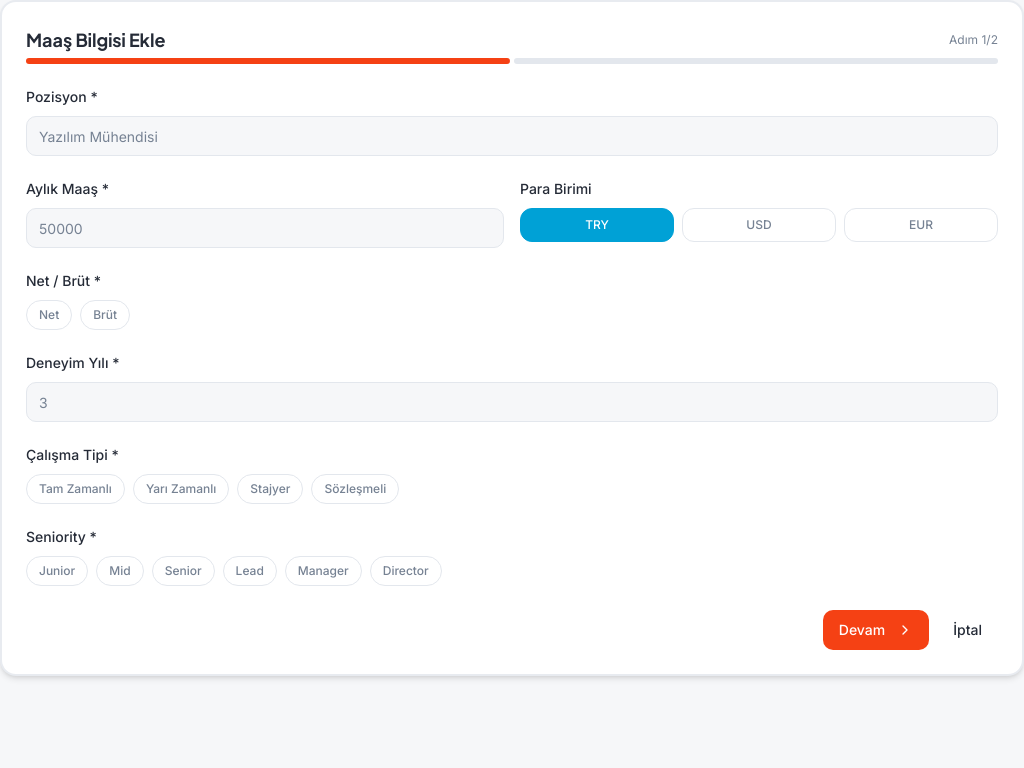
Test: SalaryForm › advances to step 2 when all required fields filled
The image size is (1024, 768).
Type "Frontend Dev" into the field with placeholder "Yazılım Mühendisi" at (512, 136), box [26,116,998,156]
Type "60000" into the number field with placeholder "50000" at (265, 228), box [26,208,504,248]
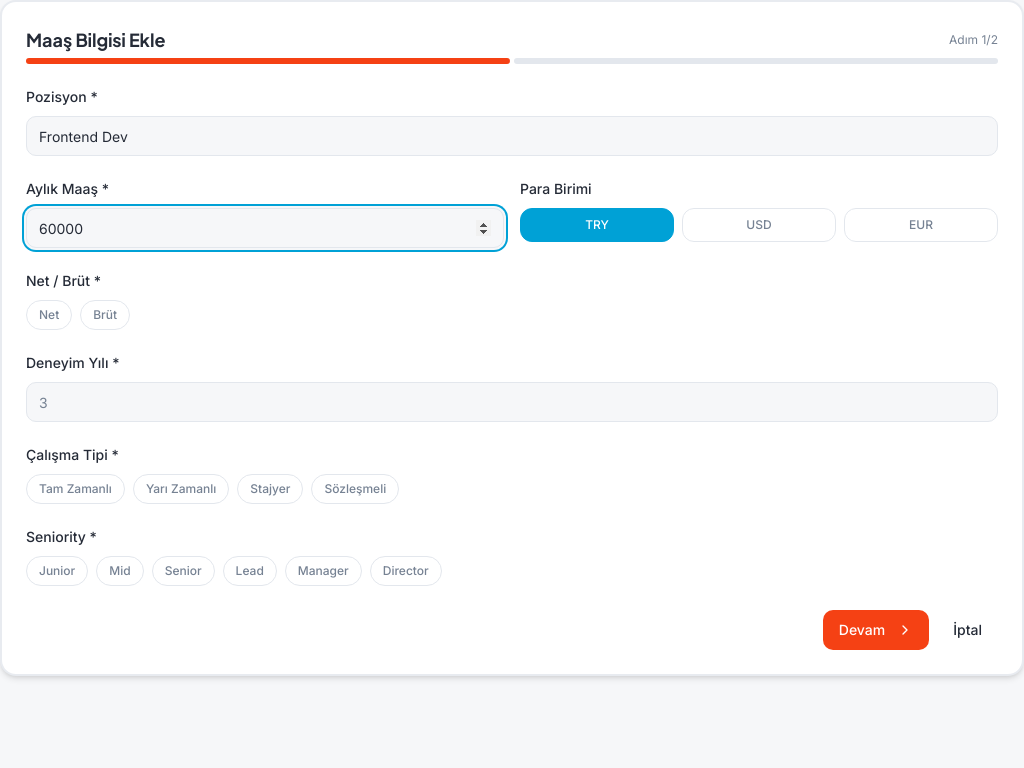
Click the button "Net" at (49, 315), box [26,300,72,330]
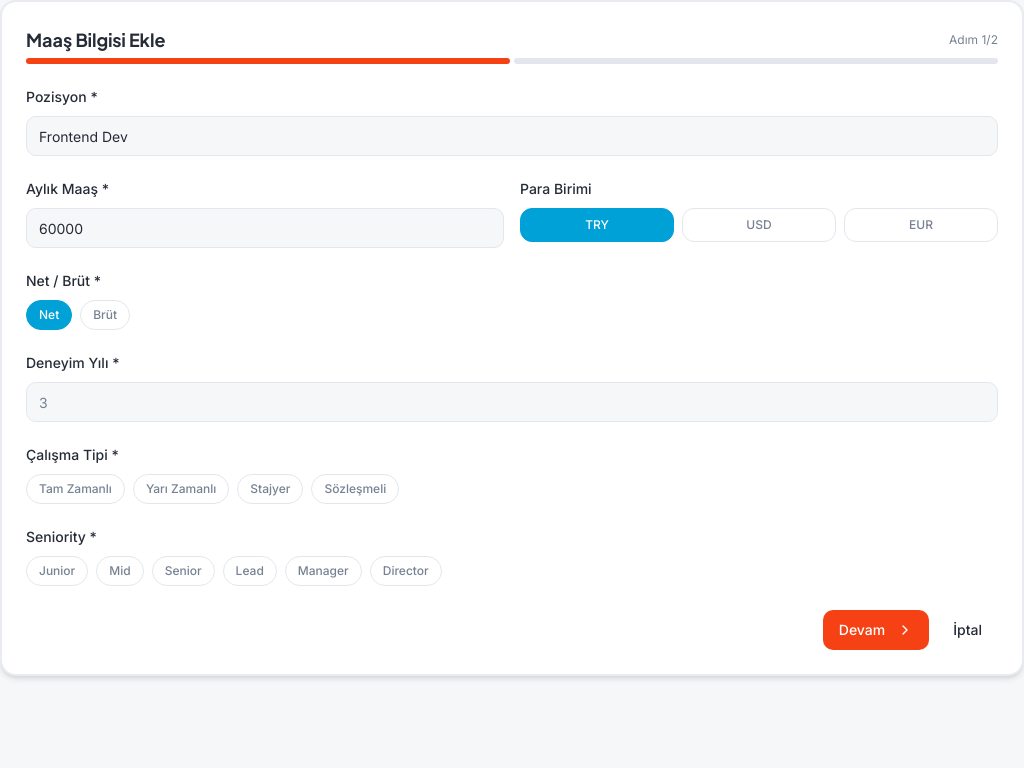
Type "5" into the number field with placeholder "3" at (512, 402), box [26,382,998,422]
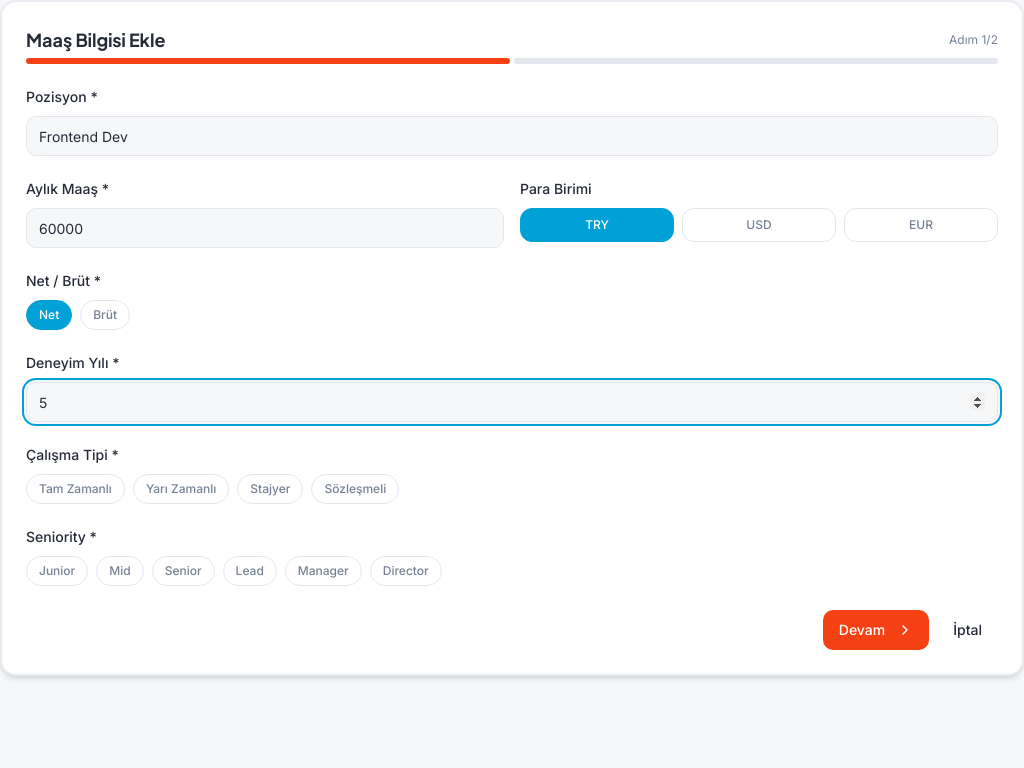
Click the button "Tam Zamanlı" at (75, 489), box [26,474,125,504]
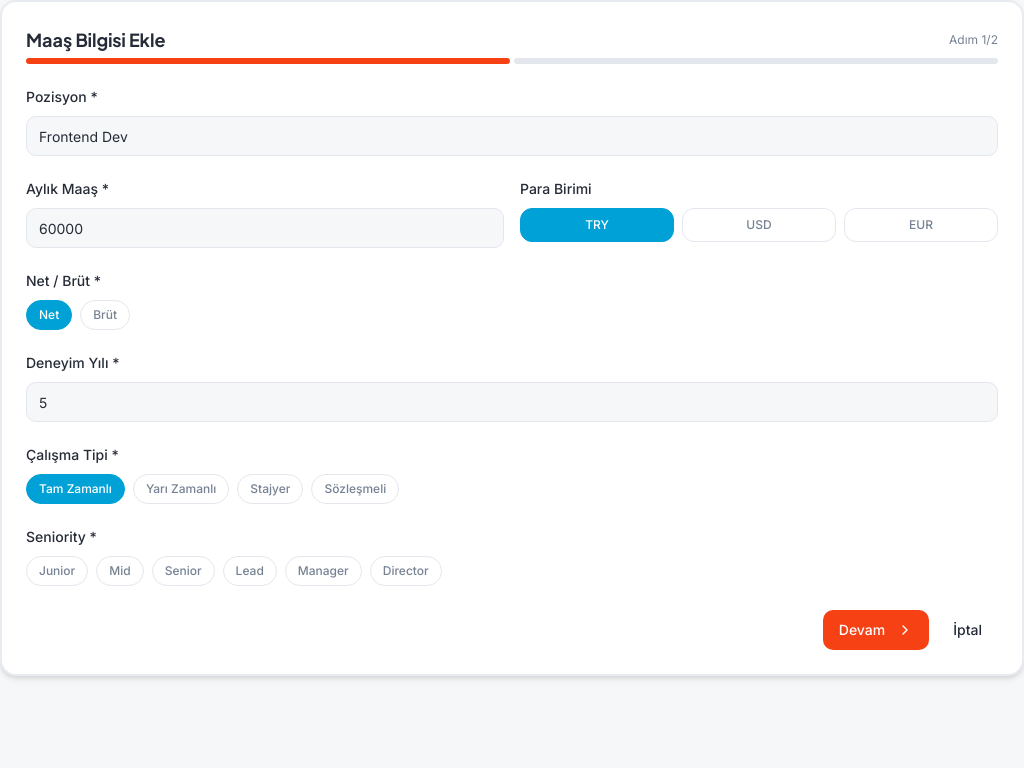
Click the button "Mid" at (120, 571), box [96,556,144,586]
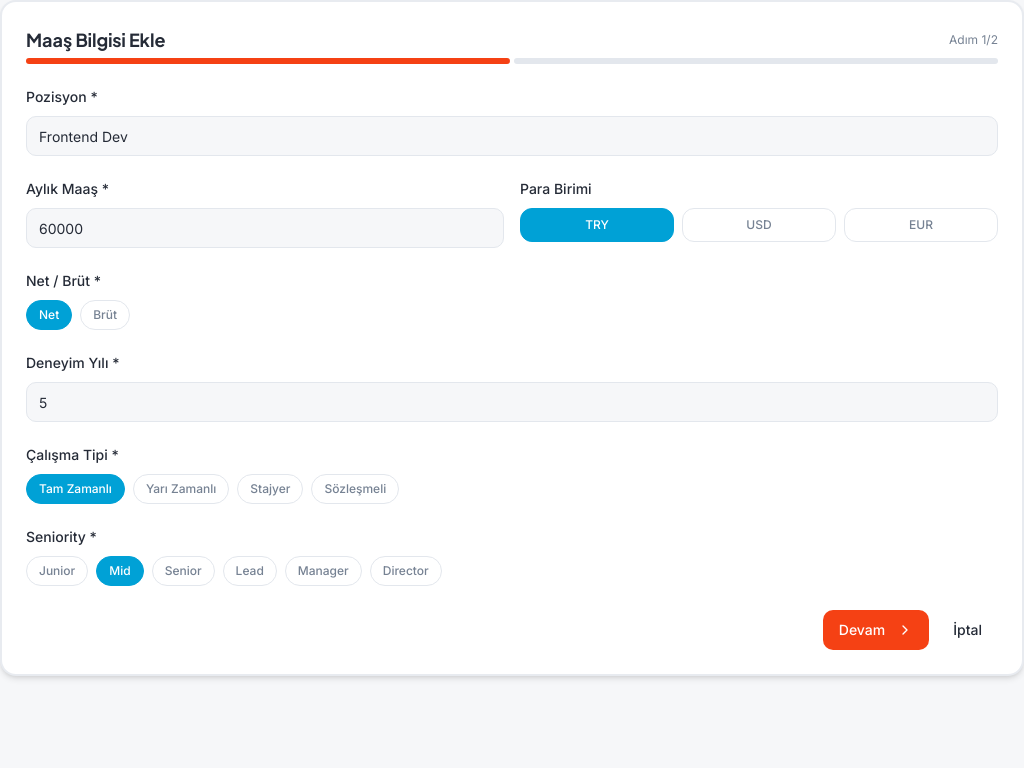
Click the button "Devam" at (876, 630), box [823,610,929,650]
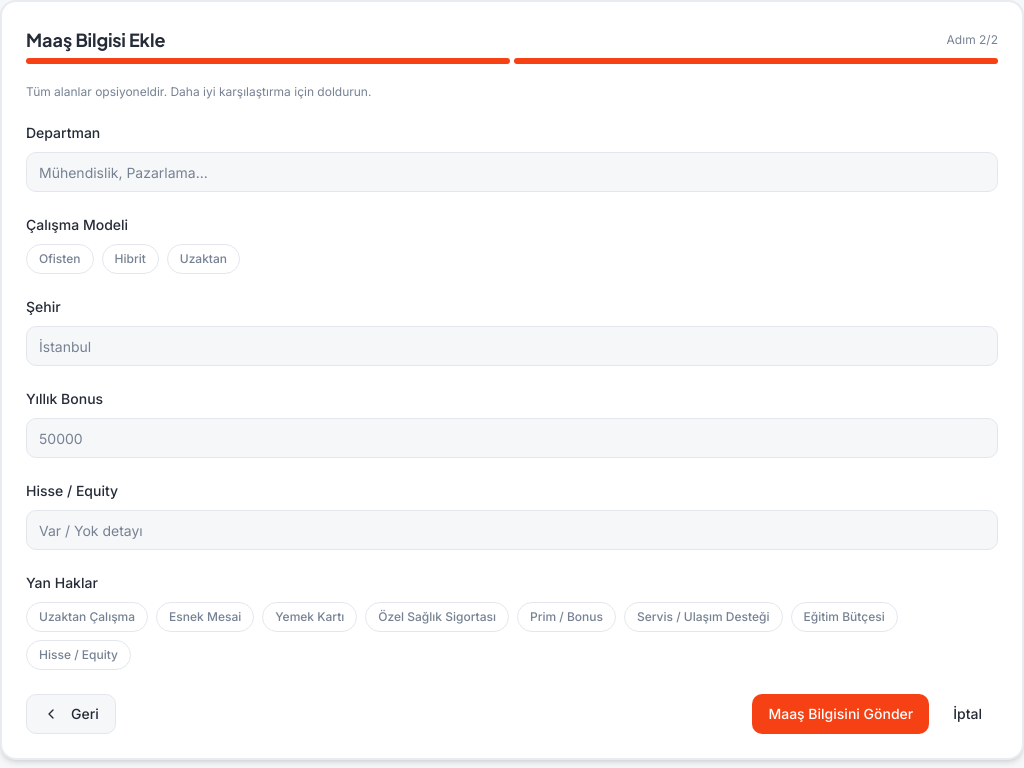
Expected: the text "Adım 2/2" is shown, [947,32,998,48]
